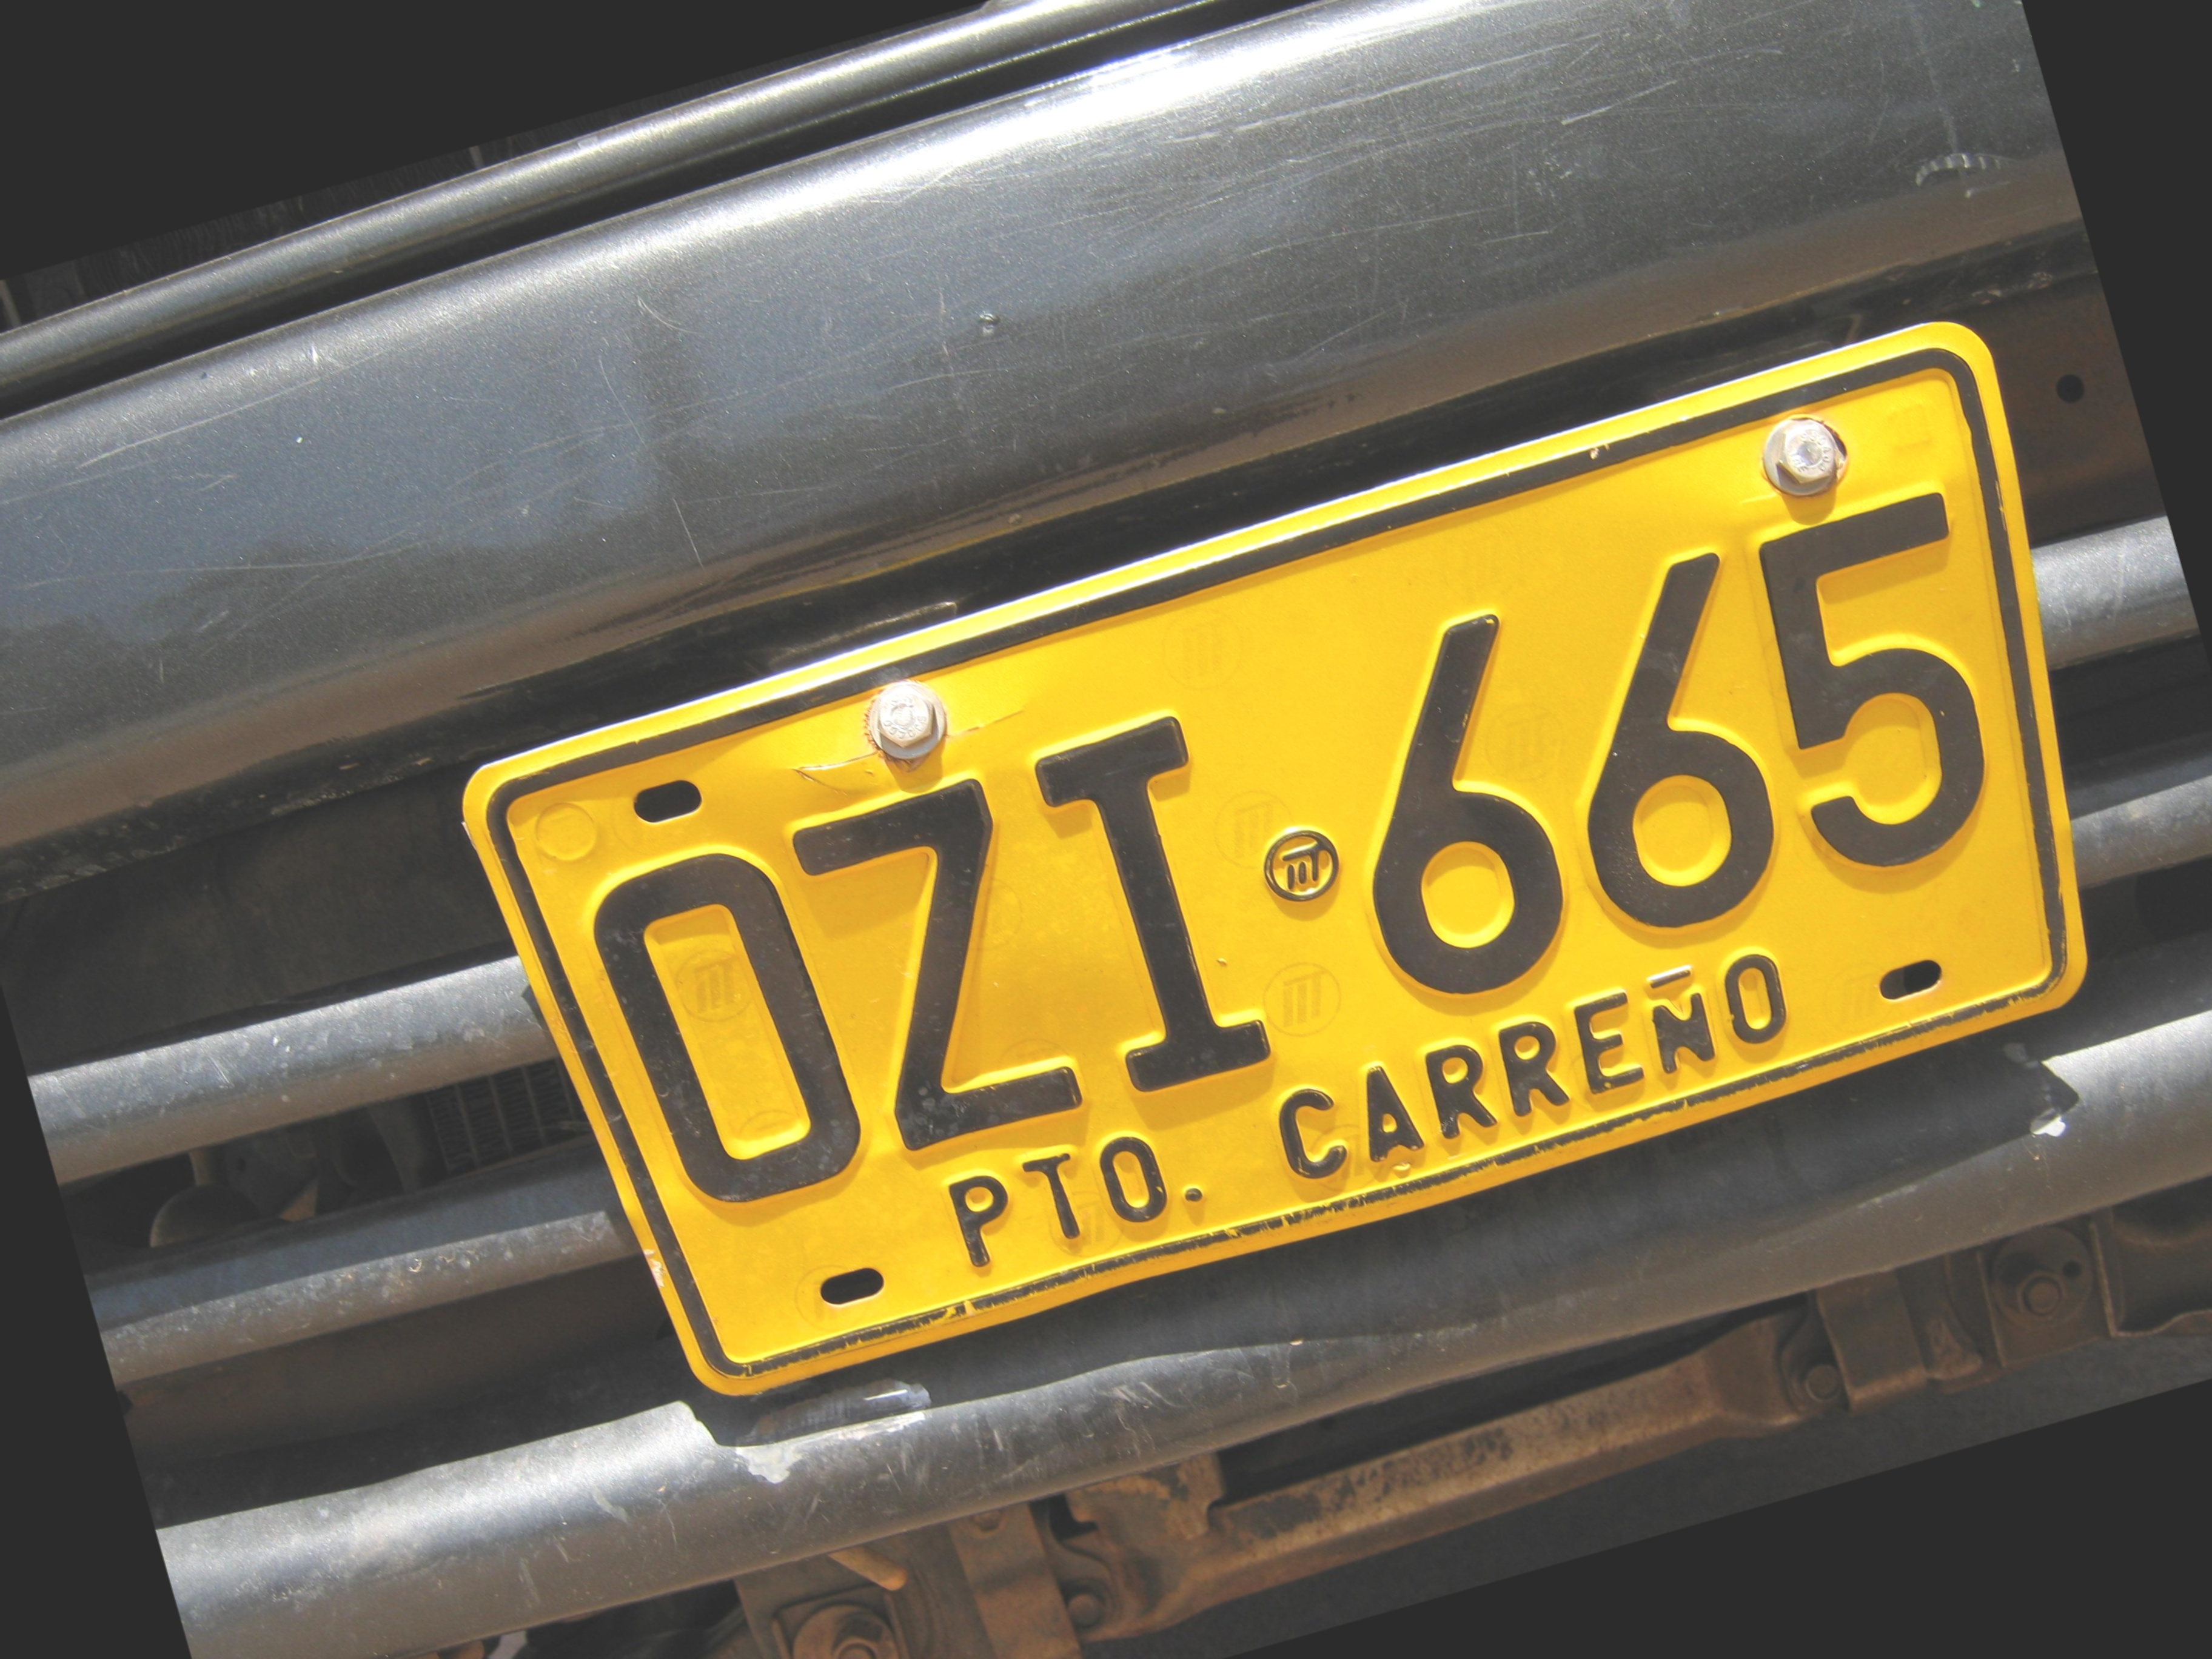placas: (432, 297, 2185, 1441)
